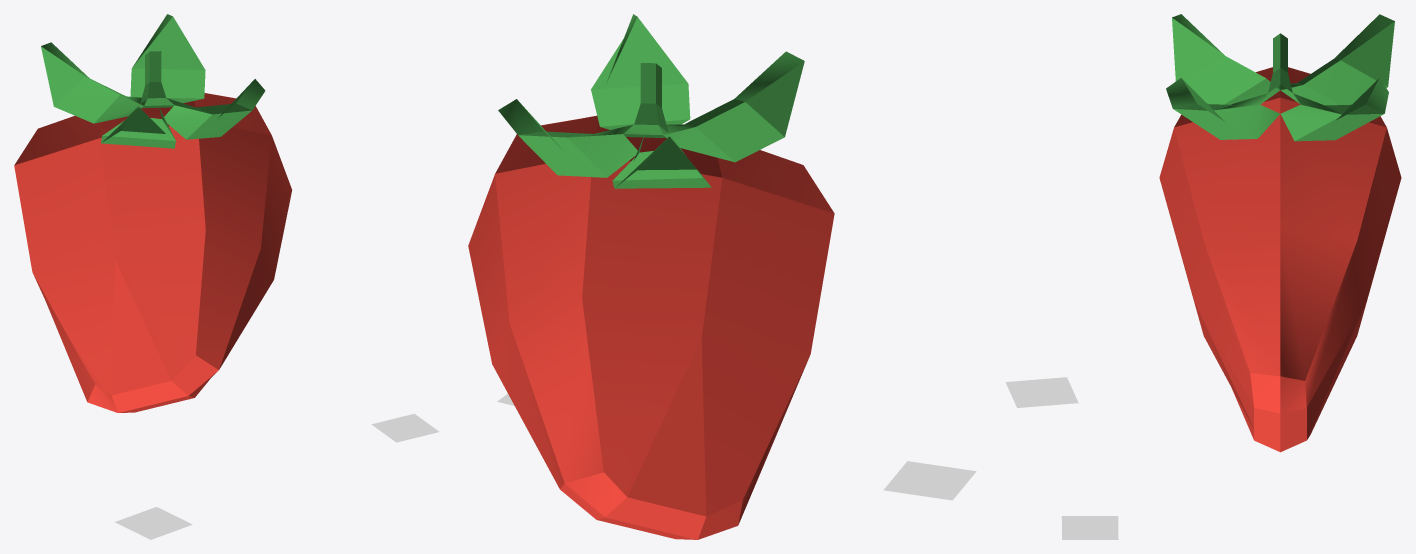
Rendered from strawberries.glb.
3 renders of one model, left to right at view 1: azimuth 30°, elevation 25°; view 2: azimuth 150°, elevation 25°; view 3: azimuth 270°, elevation 25°, orthographic. The views are drawn at different scales.
Parts seen in each view (by area): view 1: strawberries, strawberries_copy.001, strawberries_copy; view 2: strawberries, strawberries_copy.001; view 3: strawberries, strawberries_copy.001, strawberries_copy.
Boxes of the visible parts, x1=… form: strawberries: x1=14, y1=14, x2=291, y2=412; strawberries_copy.001: x1=114, y1=507, x2=192, y2=539; strawberries_copy: x1=371, y1=413, x2=439, y2=442; strawberries: x1=468, y1=14, x2=834, y2=539; strawberries_copy.001: x1=883, y1=461, x2=976, y2=500; strawberries: x1=1159, y1=14, x2=1401, y2=452; strawberries_copy.001: x1=1005, y1=377, x2=1078, y2=407; strawberries_copy: x1=1061, y1=516, x2=1118, y2=539.
Size of the model in its own units: 0.1992 by 0.2162 by 0.188.
